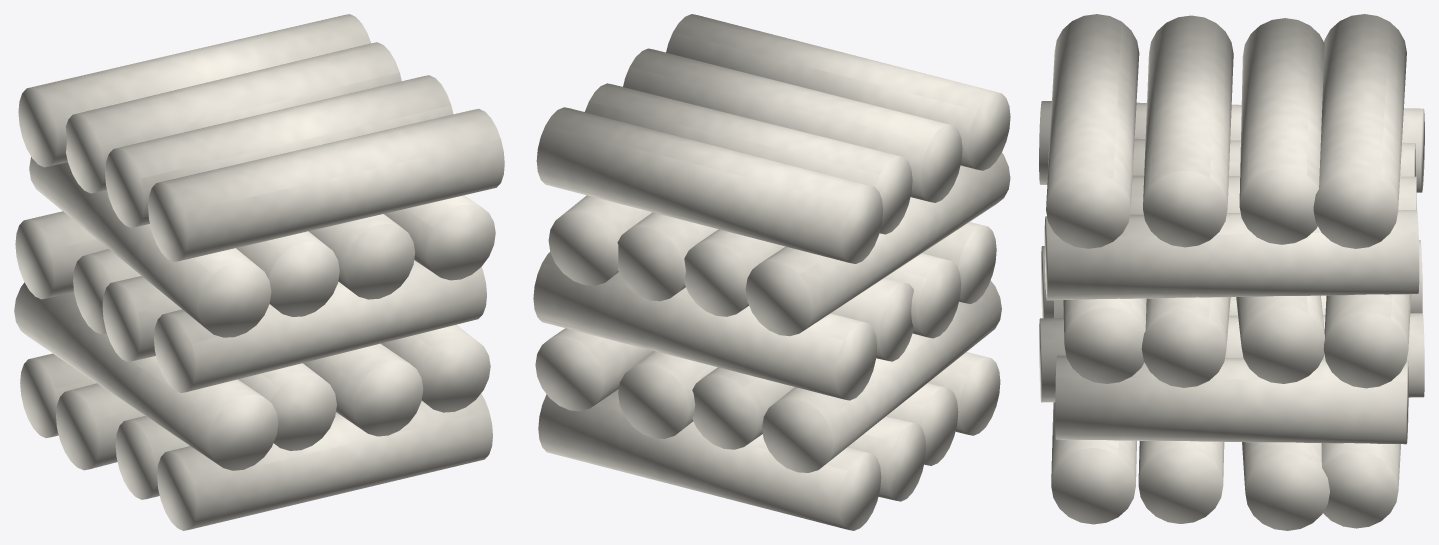
File: z3_tteok.obj
3 views of the same model, side by side, from view 1: azimuth 30°, elevation 25°; view 2: azimuth 150°, elevation 25°; view 3: azimuth 270°, elevation 25° (orthographic). The views are drawn at different scales.
Visible parts, largest first — view 1: garaetteok; view 2: garaetteok; view 3: garaetteok.
Boxes of the visible parts, bbox=[...] form: garaetteok: bbox=[14, 14, 504, 530]; garaetteok: bbox=[533, 14, 1010, 530]; garaetteok: bbox=[1039, 14, 1424, 530].
Bounding box in the file's own units: 0.1042 × 0.107 × 0.1047.
1 material, 1 textured.
